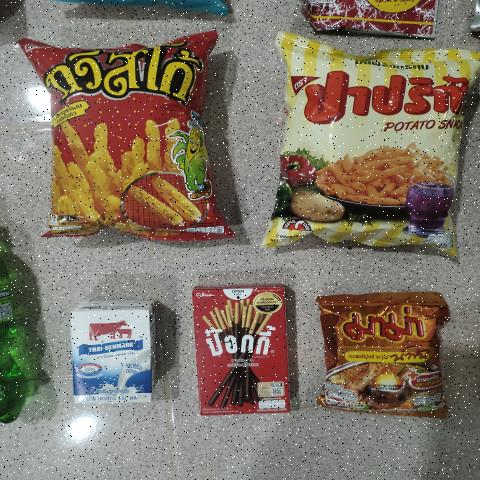mama: (337, 298, 439, 407)
paprika: (286, 59, 459, 256)
pokki: (195, 278, 288, 414)
twisco: (35, 42, 224, 235)
